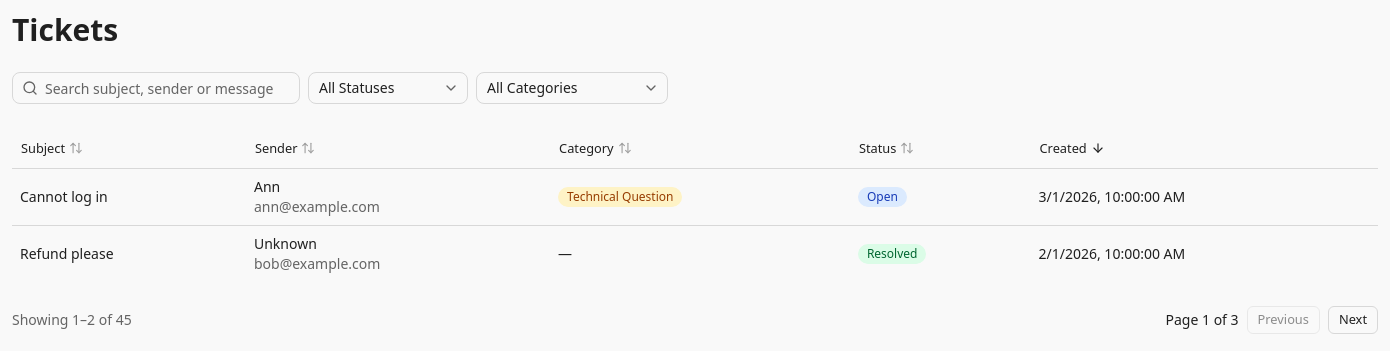
Test: TicketsPage › pagination › disables Next on the last page
Click the button "Next": point(1353, 320) x1=1328 y1=306 x2=1378 y2=334
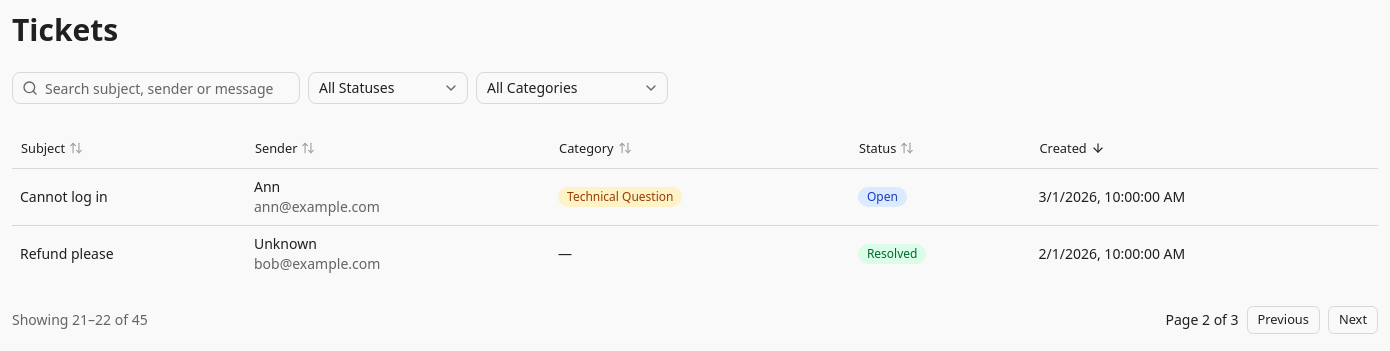
Check: the text "Page 2 of 3" is shown, box x1=1166 y1=310 x2=1239 y2=330
Click the button "Next": point(1353, 320) x1=1328 y1=306 x2=1378 y2=334
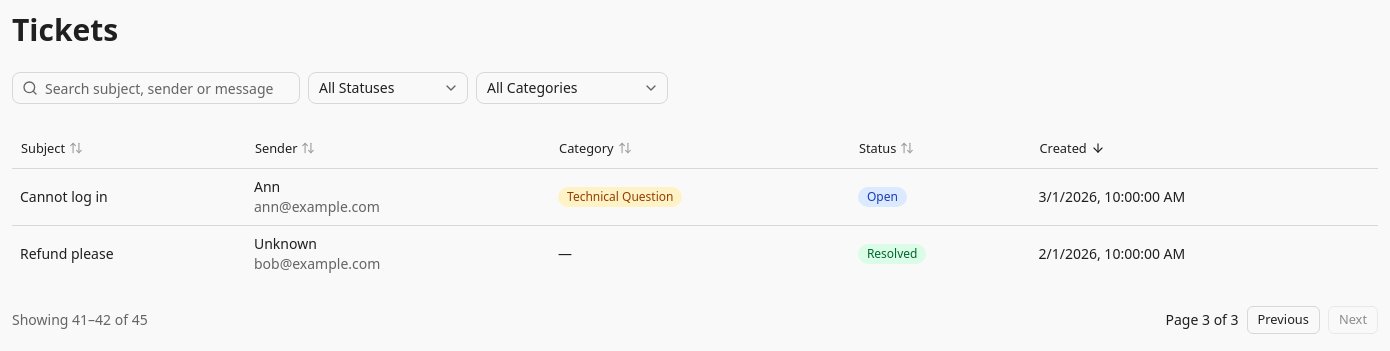
Check: the text "Page 3 of 3" is shown, box x1=1166 y1=310 x2=1239 y2=330
Check: the button "Next" is disabled, box x1=1328 y1=306 x2=1378 y2=334
